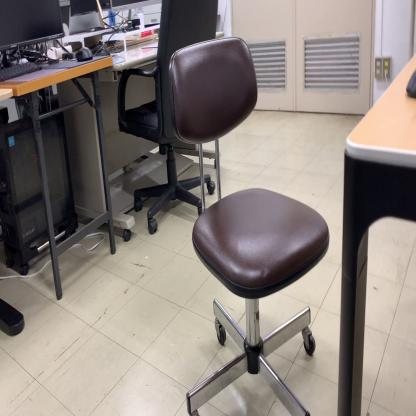chair: (167, 36, 331, 416), (116, 0, 221, 236)
